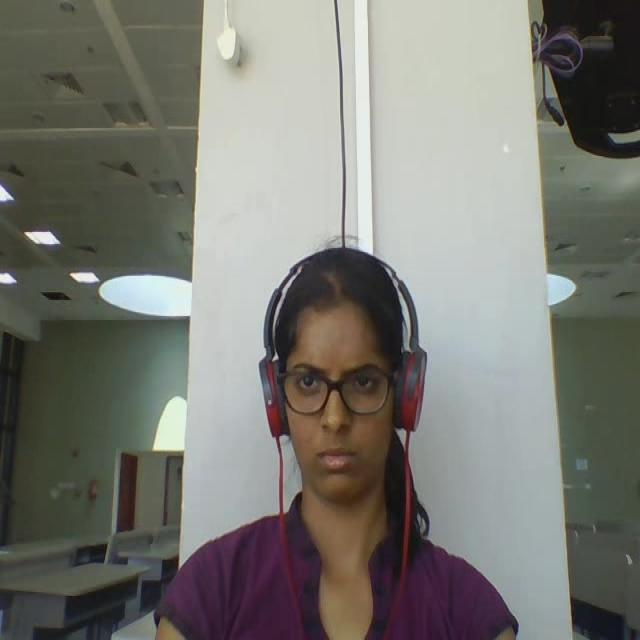Engaged: (243, 221, 447, 530)
